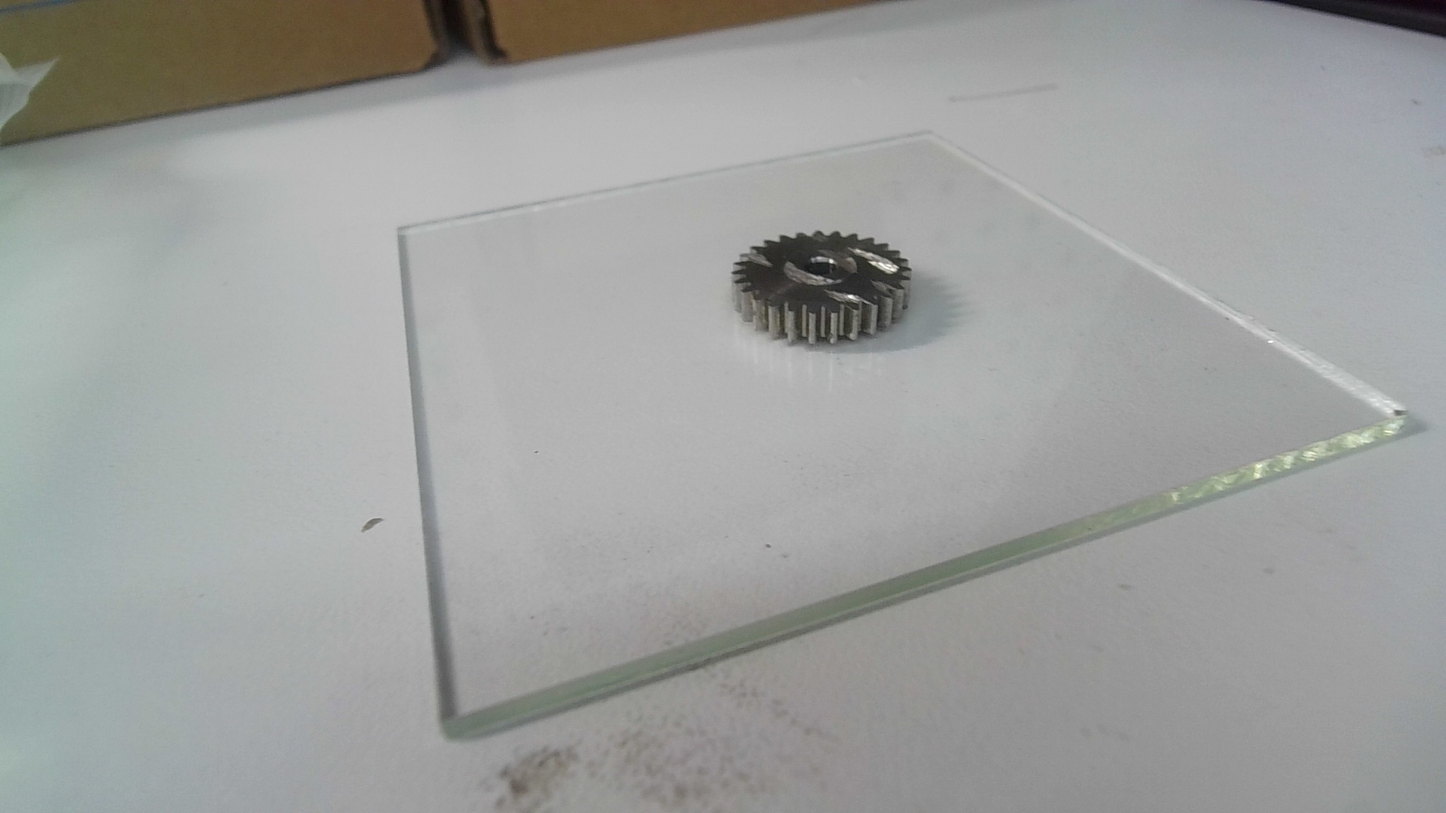gear: (729, 228, 915, 348)
